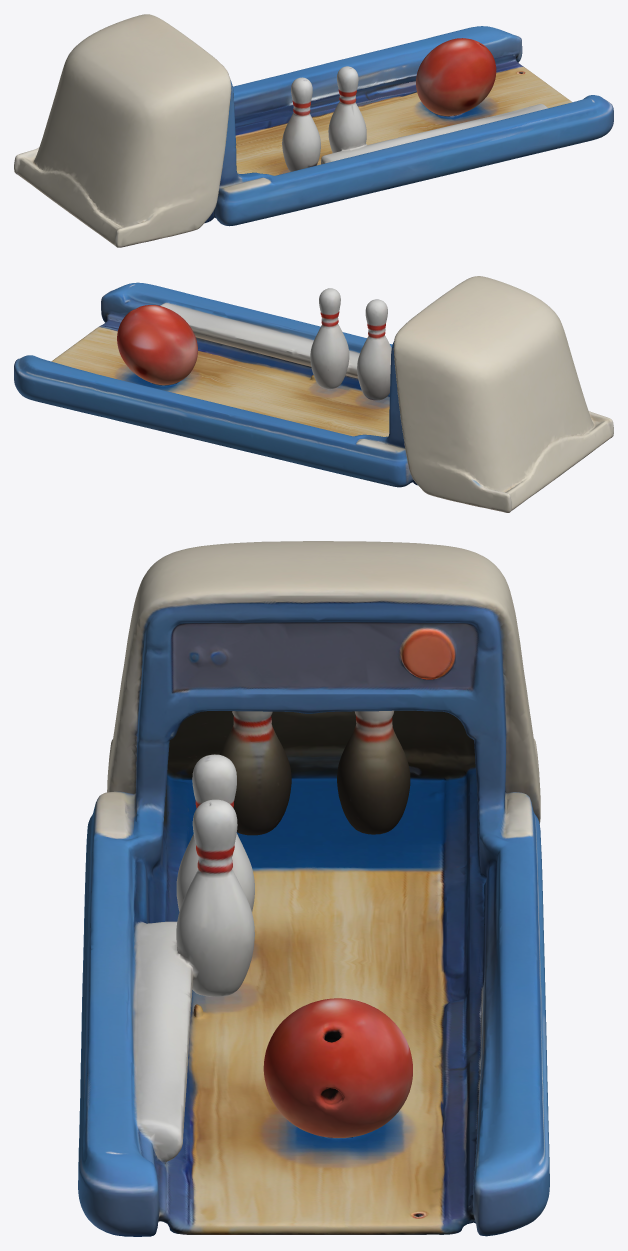
File: building-mini-bowling.glb
3 renders of one model, top to bottom at view 1: azimuth 30°, elevation 25°; view 2: azimuth 150°, elevation 25°; view 3: azimuth 270°, elevation 25°, orthographic. The views are drawn at different scales.
Visible parts, largest first — view 1: tripo_node_9d9f07a2-52f7-446d-a6fa-d936feaa1118; view 2: tripo_node_9d9f07a2-52f7-446d-a6fa-d936feaa1118; view 3: tripo_node_9d9f07a2-52f7-446d-a6fa-d936feaa1118.
Boxes of the visible parts, bbox=[...] form: tripo_node_9d9f07a2-52f7-446d-a6fa-d936feaa1118: bbox=[14, 14, 613, 247]; tripo_node_9d9f07a2-52f7-446d-a6fa-d936feaa1118: bbox=[14, 276, 613, 512]; tripo_node_9d9f07a2-52f7-446d-a6fa-d936feaa1118: bbox=[78, 541, 549, 1236].
Bounding box in the file's own units: 10.68 × 3 × 4.38.
Materials: 1 (1 with a texture image).
